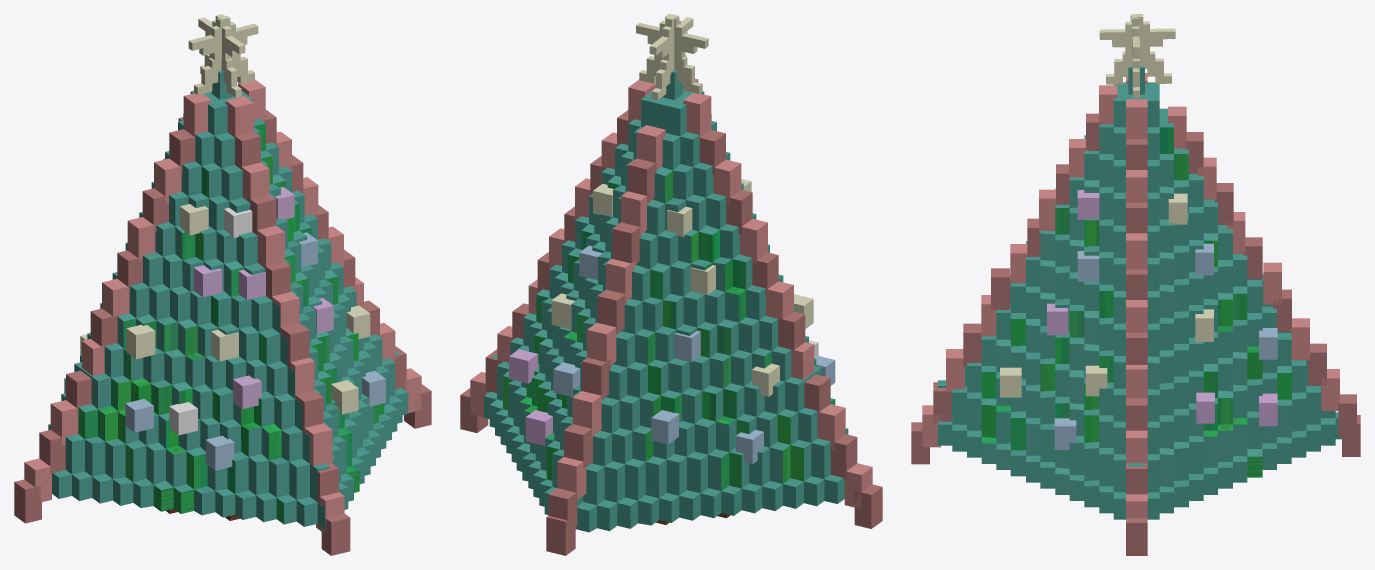
File: chrismas tree.fbx
The picture shows the model from 3 angles, left to right: view 1: azimuth 30°, elevation 25°; view 2: azimuth 150°, elevation 25°; view 3: azimuth 270°, elevation 25°; orthographic projection. The views are drawn at different scales.
Parts seen in each view (by area): view 1: pCube11, pasted__pasted__pasted__pasted__pCube15 (×11), pasted__pasted__pasted__pCube15 (×9), pasted__pasted__pCube15 (×9), pasted__pasted__pasted__pasted__pasted__pCube15 (×8), pasted__pasted__pasted__pasted__pasted__pasted__pCube15 (×6), pasted__pCube15 (×3), pasted__pCube14, pCube14, pasted__pasted__pasted__pasted__pasted__pasted__pasted__pCub; view 2: pCube11, pasted__pasted__pasted__pCube15 (×8), pasted__pasted__pCube15 (×8), pasted__pasted__pasted__pasted__pCube15 (×8), pasted__pasted__pasted__pasted__pasted__pasted__pCube15 (×6), pasted__pasted__pasted__pasted__pasted__pCube15 (×6), pasted__pCube15 (×3), pasted__pCube14, pasted__pasted__pasted__pasted__pasted__pasted__pasted__pCub (×3), pCube14, pasted__pasted__pasted__pasted__pasted__pasted__pasted__past; view 3: pCube11, pasted__pasted__pasted__pCube15 (×11), pasted__pasted__pCube15 (×10), pasted__pasted__pasted__pasted__pCube15 (×8), pasted__pasted__pasted__pasted__pasted__pCube15 (×6), pasted__pasted__pasted__pasted__pasted__pasted__pCube15 (×6), pasted__pCube15 (×5), pCube14, pasted__pasted__pasted__pasted__pasted__pasted__pasted__pCub (×3), pCube15, pasted__pCube14, pasted__pasted__pasted__pasted__pasted__pasted__pasted__past.
Boxes of the visible parts, box(x1,y1,x2,y2) form: pCube11: box(48, 70, 408, 528); pasted__pasted__pasted__pasted__pCube15 (×11): box(39, 187, 421, 503); pasted__pasted__pasted__pCube15 (×9): box(66, 204, 323, 431); pasted__pasted__pCube15 (×9): box(117, 93, 318, 299); pasted__pasted__pasted__pasted__pasted__pCube15 (×8): box(24, 269, 431, 534); pasted__pasted__pasted__pasted__pasted__pasted__pCube15 (×6): box(14, 297, 370, 555); pasted__pCube15 (×3): box(169, 79, 265, 174); pasted__pCube14: box(188, 15, 258, 94); pCube14: box(198, 14, 245, 97); pasted__pasted__pasted__pasted__pasted__pasted__pasted__pCub: box(362, 371, 385, 406); pCube11: box(484, 69, 848, 532); pasted__pasted__pasted__pCube15 (×8): box(572, 219, 830, 436); pasted__pasted__pCube15 (×8): box(575, 92, 778, 301); pasted__pasted__pasted__pasted__pCube15 (×8): box(470, 206, 857, 499); pasted__pasted__pasted__pasted__pasted__pasted__pCube15 (×6): box(509, 245, 882, 555); pasted__pasted__pasted__pasted__pasted__pCube15 (×6): box(460, 183, 872, 532); pasted__pCube15 (×3): box(628, 79, 725, 175); pasted__pCube14: box(636, 14, 708, 93); pasted__pasted__pasted__pasted__pasted__pasted__pasted__pCub (×3): box(551, 293, 763, 464); pCube14: box(649, 14, 693, 100); pasted__pasted__pasted__pasted__pasted__pasted__pasted__past: box(525, 410, 552, 445); pCube11: box(937, 66, 1341, 519); pasted__pasted__pasted__pCube15 (×11): box(963, 183, 1309, 494); pasted__pasted__pCube15 (×10): box(1056, 85, 1245, 430); pasted__pasted__pasted__pasted__pCube15 (×8): box(933, 190, 1339, 518); pasted__pasted__pasted__pasted__pasted__pCube15 (×6): box(922, 193, 1356, 555); pasted__pasted__pasted__pasted__pasted__pasted__pCube15 (×6): box(911, 243, 1360, 464); pasted__pCube15 (×5): box(1126, 99, 1186, 299); pCube14: box(1099, 14, 1175, 84); pasted__pasted__pasted__pasted__pasted__pasted__pasted__pCub (×3): box(1054, 309, 1277, 449); pCube15: box(1126, 139, 1147, 169); pasted__pCube14: box(1130, 14, 1140, 97); pasted__pasted__pasted__pasted__pasted__pasted__pasted__past: box(1259, 393, 1277, 426).
Size of the model in its own units: 21.22 by 23.58 by 20.8.
Materials: 12 (2 with a texture image).
